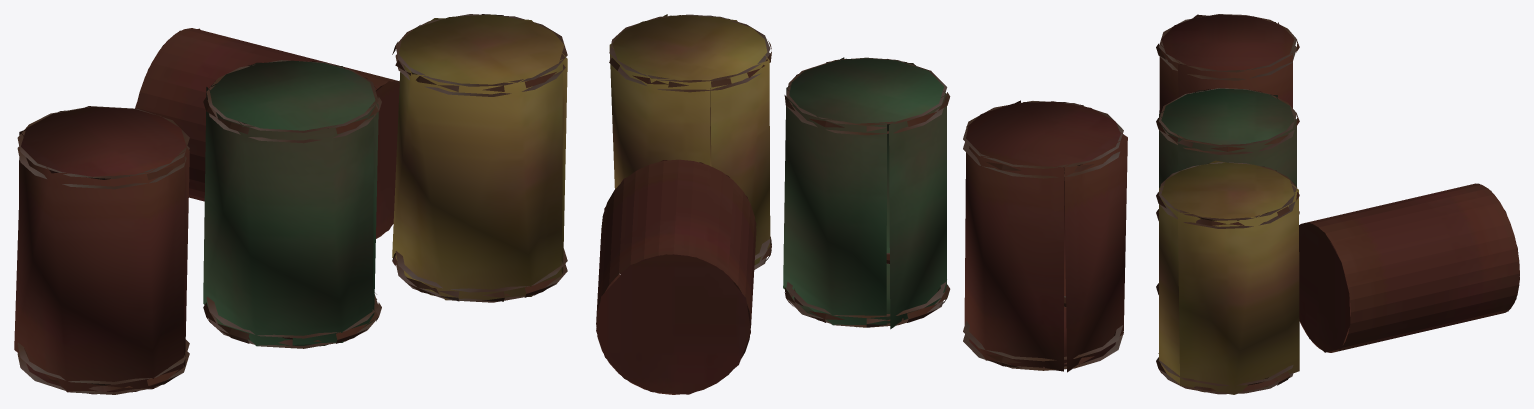
The model's file is FD04_TinFoodCans.glb.
3 renders of one model, left to right at view 1: azimuth 30°, elevation 25°; view 2: azimuth 150°, elevation 25°; view 3: azimuth 270°, elevation 25°, orthographic. The views are drawn at different scales.
Visible parts, largest first — view 1: FD04_TinFoodCans; view 2: FD04_TinFoodCans; view 3: FD04_TinFoodCans.
Boxes of the visible parts, x1,y1,x2,y2 form: FD04_TinFoodCans: [14, 14, 567, 394]; FD04_TinFoodCans: [596, 14, 1127, 394]; FD04_TinFoodCans: [1156, 14, 1519, 394].
Size of the model in its own units: 0.1484 by 0.0585 by 0.1104.
Materials: 4 (4 with a texture image).
